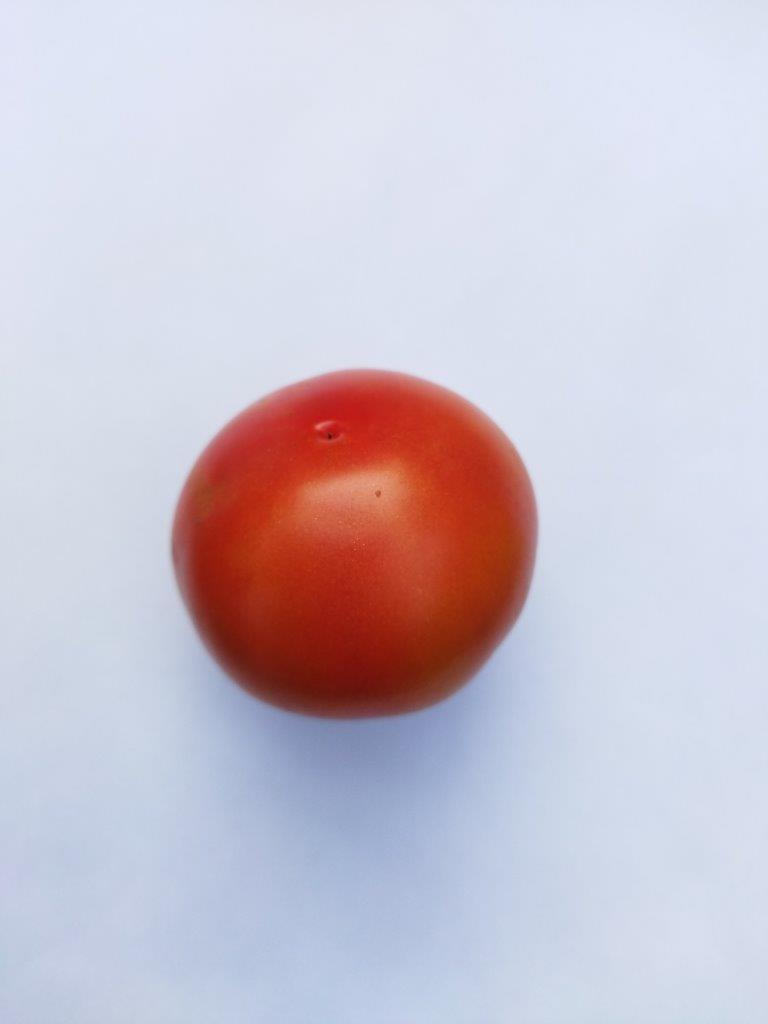tomato: (173, 371, 536, 717)
